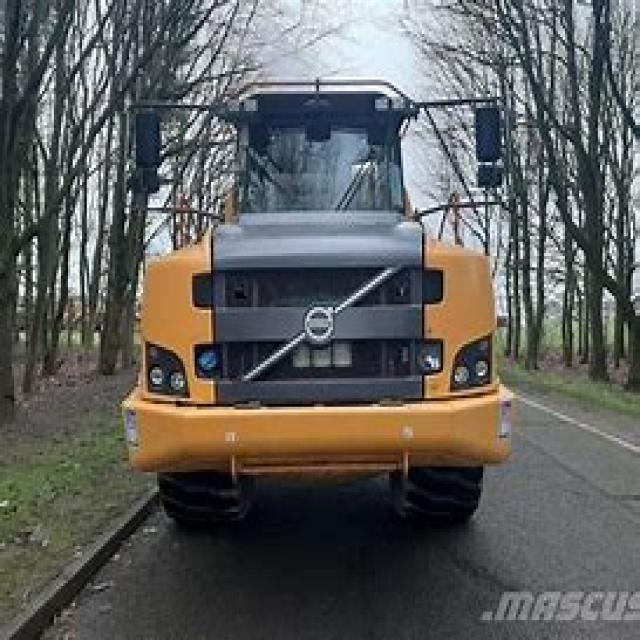dump_truck: (80, 71, 556, 532)
